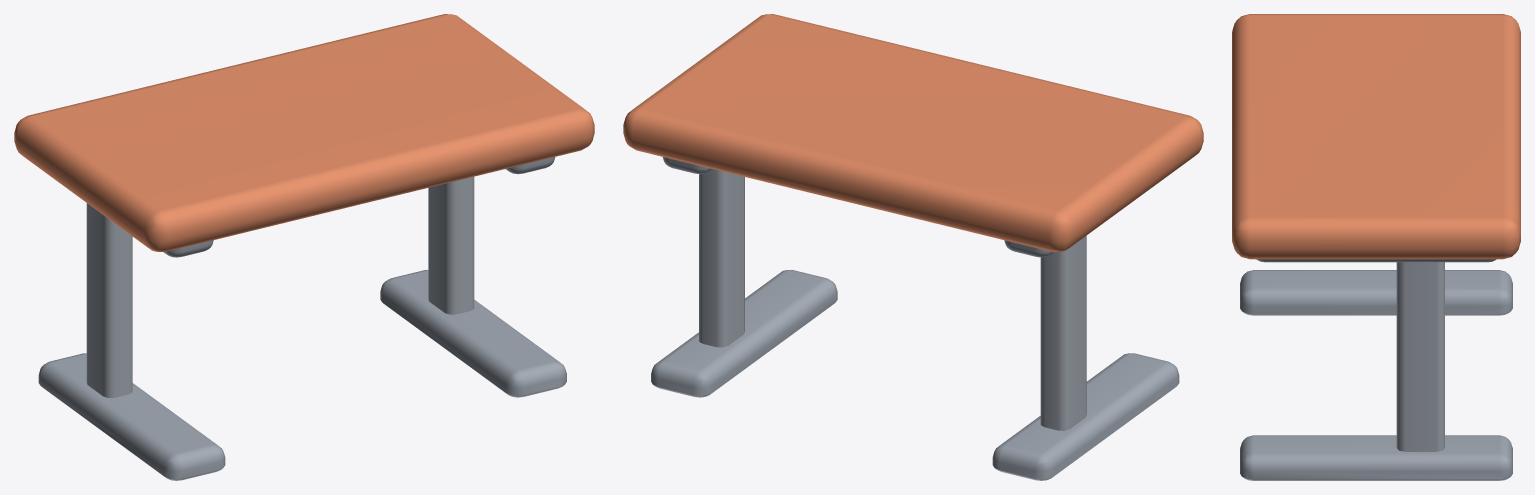
File: mesa_trabalho_pes_metal_pacote.glb
3 renders of one model, left to right at view 1: azimuth 30°, elevation 25°; view 2: azimuth 150°, elevation 25°; view 3: azimuth 270°, elevation 25°, orthographic.
Parts seen in each view (by area): view 1: mesa_trabalho_pes_metal_pacote; view 2: mesa_trabalho_pes_metal_pacote; view 3: mesa_trabalho_pes_metal_pacote.
Boxes of the visible parts, x1,y1,x2,y2 form: mesa_trabalho_pes_metal_pacote: [14, 14, 594, 480]; mesa_trabalho_pes_metal_pacote: [623, 14, 1203, 480]; mesa_trabalho_pes_metal_pacote: [1232, 14, 1520, 480].
Size of the model in its own units: 1.31 by 0.76 by 0.7371.
1 material, 1 textured.
